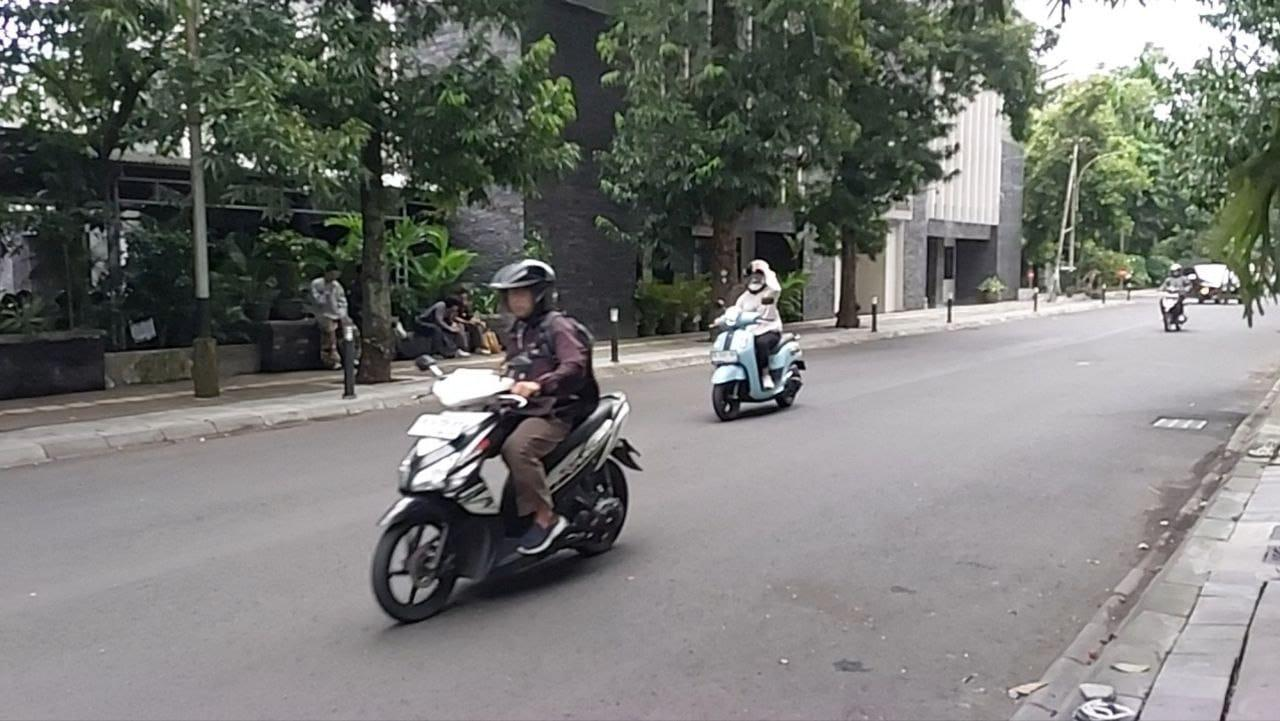helm: (487, 259, 559, 321), (742, 258, 770, 294)
riding: (370, 258, 645, 624), (708, 257, 808, 422)
